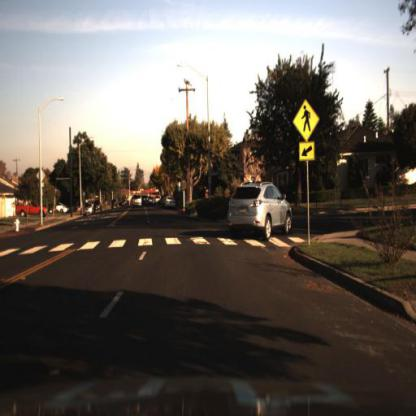car: (228, 177, 293, 243), (17, 202, 48, 220), (46, 211, 64, 227), (83, 201, 95, 219), (133, 193, 145, 210), (164, 195, 177, 210)
